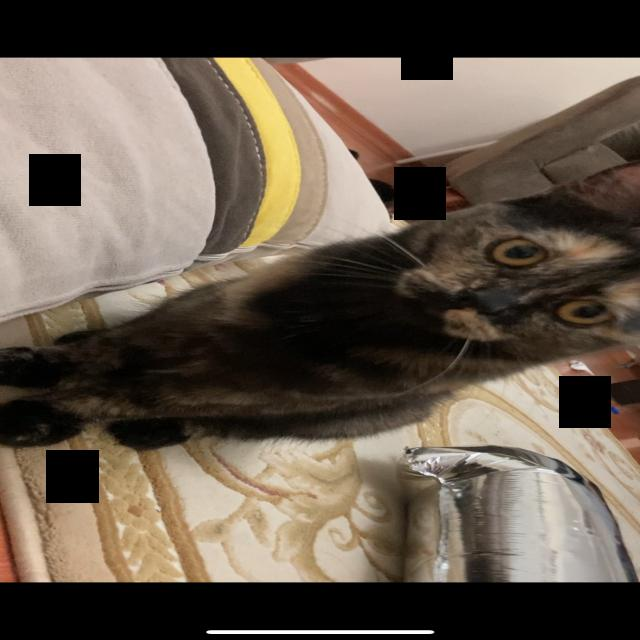authorized: (1, 160, 638, 452)
